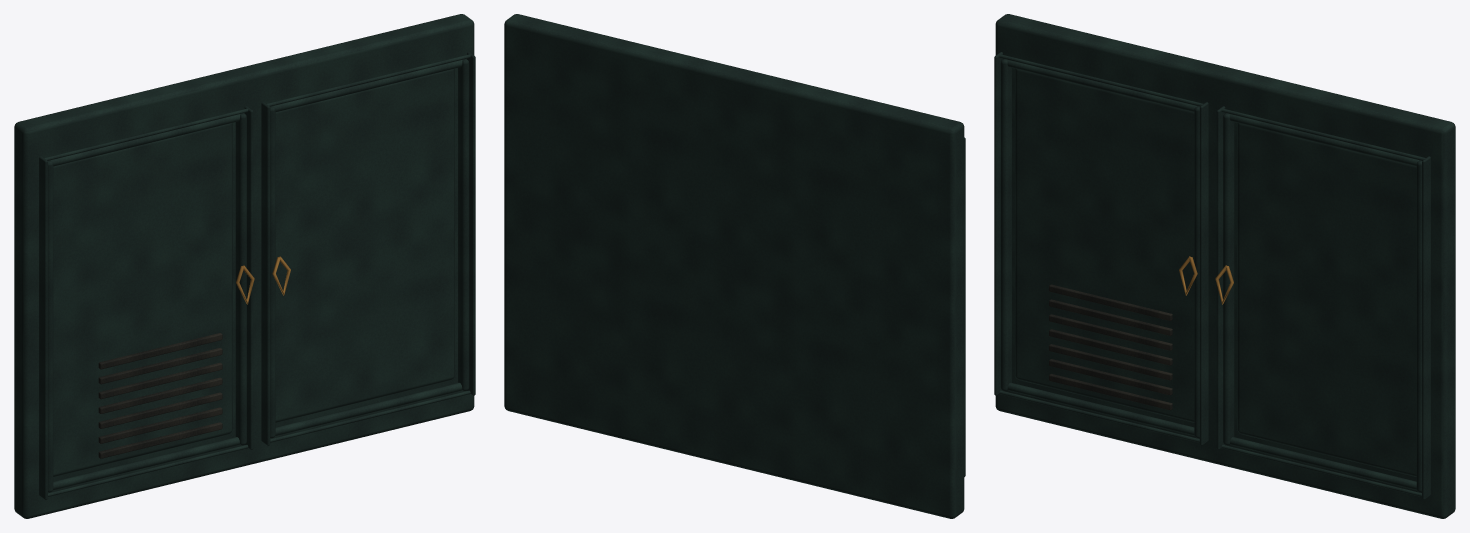
Rendered from ToolLeaf.fbx.
3 renders of one model, left to right at view 1: azimuth 30°, elevation 25°; view 2: azimuth 150°, elevation 25°; view 3: azimuth 330°, elevation 25°, orthographic.
Visible parts, largest first — view 1: ToolLeaf_MotorPaint, ToolLeaf_Iron, ToolLeaf_Brass; view 2: ToolLeaf_MotorPaint; view 3: ToolLeaf_MotorPaint, ToolLeaf_Iron, ToolLeaf_Brass.
Boxes of the visible parts, bbox=[...] form: ToolLeaf_MotorPaint: bbox=[14, 14, 475, 518]; ToolLeaf_Iron: bbox=[98, 333, 222, 458]; ToolLeaf_Brass: bbox=[236, 256, 290, 304]; ToolLeaf_MotorPaint: bbox=[504, 14, 965, 518]; ToolLeaf_MotorPaint: bbox=[994, 14, 1455, 518]; ToolLeaf_Iron: bbox=[1049, 284, 1172, 410]; ToolLeaf_Brass: bbox=[1179, 256, 1233, 304].
Size of the model in its own units: 136 by 113 by 14.75.
